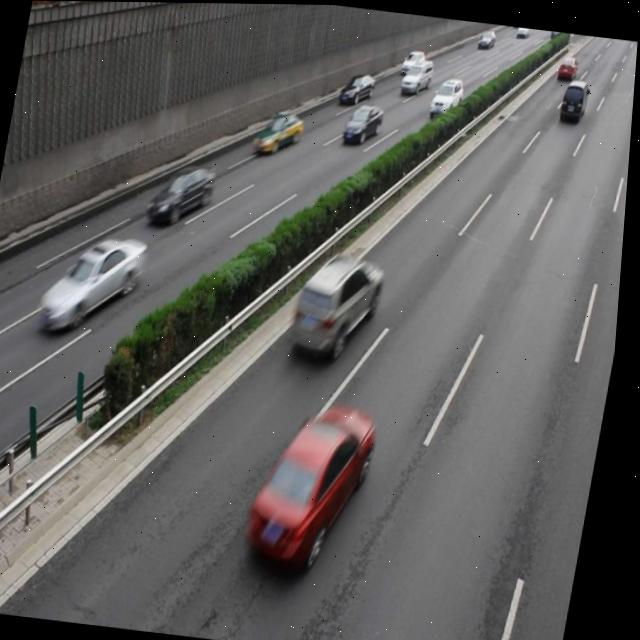car: (248, 393, 388, 575), (38, 225, 153, 338), (289, 246, 391, 361), (146, 159, 218, 228), (252, 106, 307, 157), (342, 97, 386, 146)
